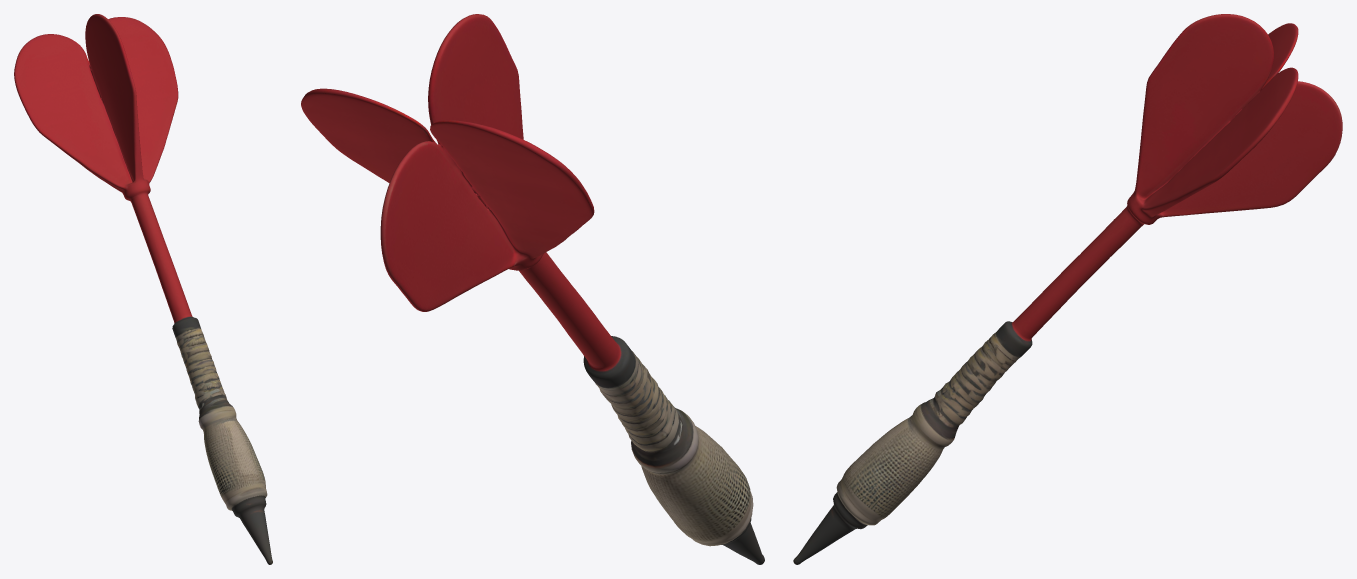
File: Dart.fbx
3 renders of one model, left to right at view 1: azimuth 30°, elevation 25°; view 2: azimuth 150°, elevation 25°; view 3: azimuth 270°, elevation 25°, orthographic. The views are drawn at different scales.
Parts seen in each view (by area): view 1: tripo_node_58dbf82f; view 2: tripo_node_58dbf82f; view 3: tripo_node_58dbf82f.
Part boxes in pixels (x1,y1,x2,y2): tripo_node_58dbf82f: (14,14,272,564); tripo_node_58dbf82f: (301,14,764,564); tripo_node_58dbf82f: (793,14,1342,564).
Size of the model in its own units: 37.21 by 99.95 by 90.33.
Materials: 1 (1 with a texture image).
